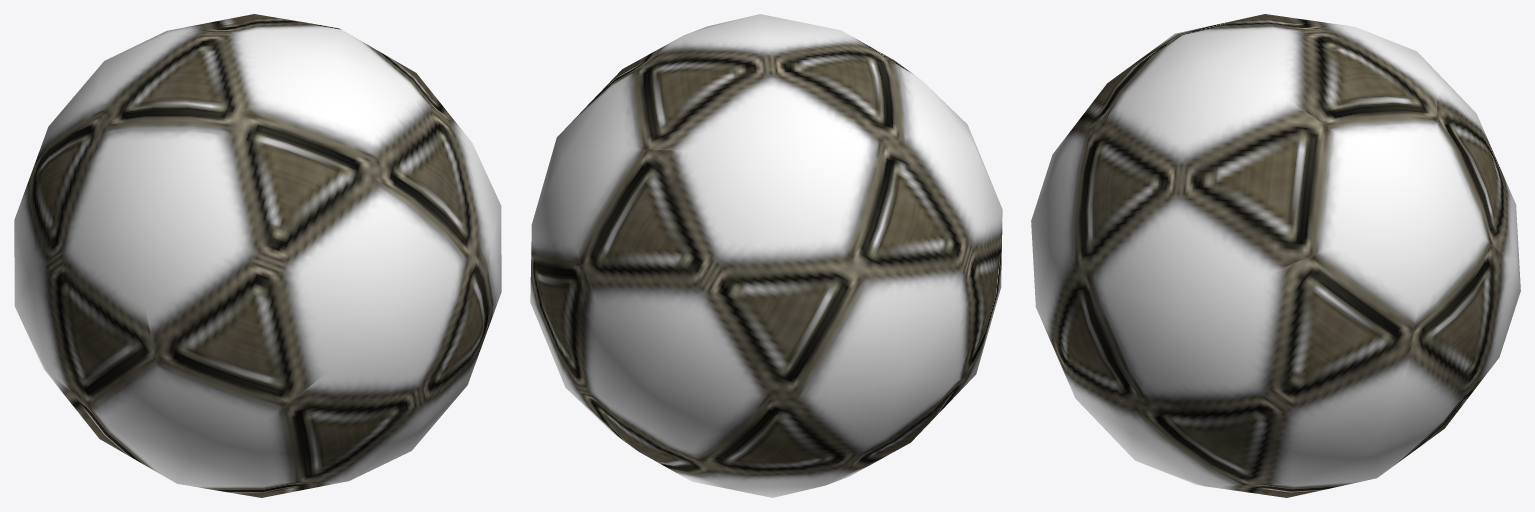
The model's file is st_ball_020.fbx.
The picture shows the model from 3 angles, left to right: view 1: azimuth 30°, elevation 25°; view 2: azimuth 150°, elevation 25°; view 3: azimuth 270°, elevation 25°; orthographic projection. The views are drawn at different scales.
Parts seen in each view (by area): view 1: st_Ball_020; view 2: st_Ball_020; view 3: st_Ball_020.
Boxes of the visible parts, x1,y1,x2,y2 form: st_Ball_020: [14, 14, 501, 497]; st_Ball_020: [530, 14, 1002, 497]; st_Ball_020: [1031, 14, 1520, 497].
Size of the model in its own units: 21.7 by 22 by 21.84.
